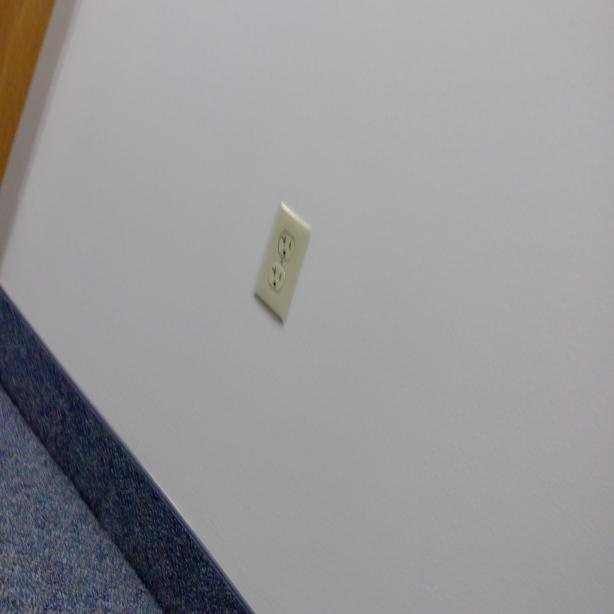typeb: (268, 260, 286, 289), (278, 230, 294, 259)
